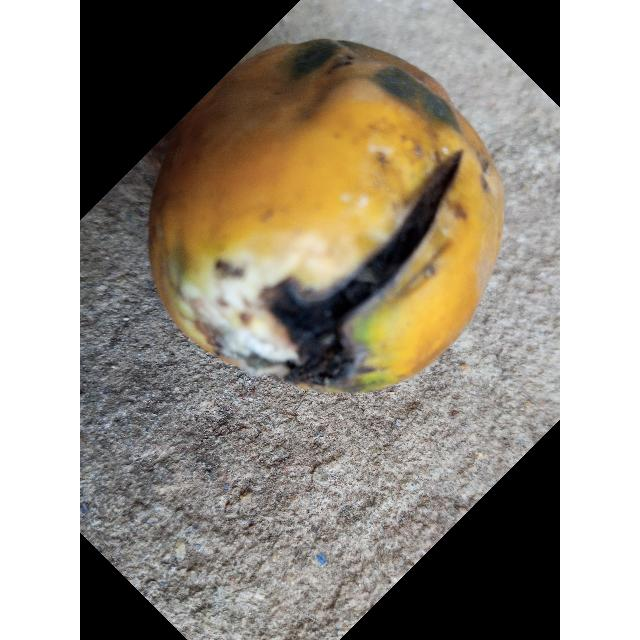damaged: (150, 39, 504, 392)
